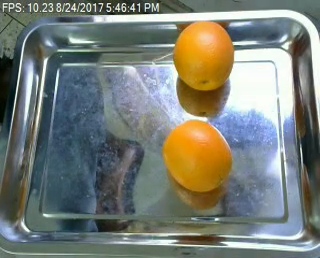Orange: (163, 119, 233, 191), (173, 20, 235, 90)
